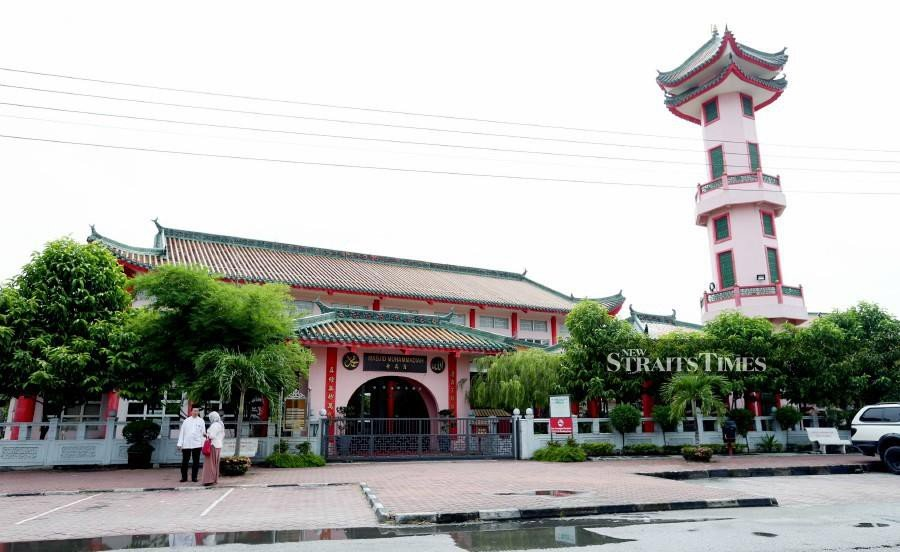Buddhist Temple: (89, 214, 616, 443)
